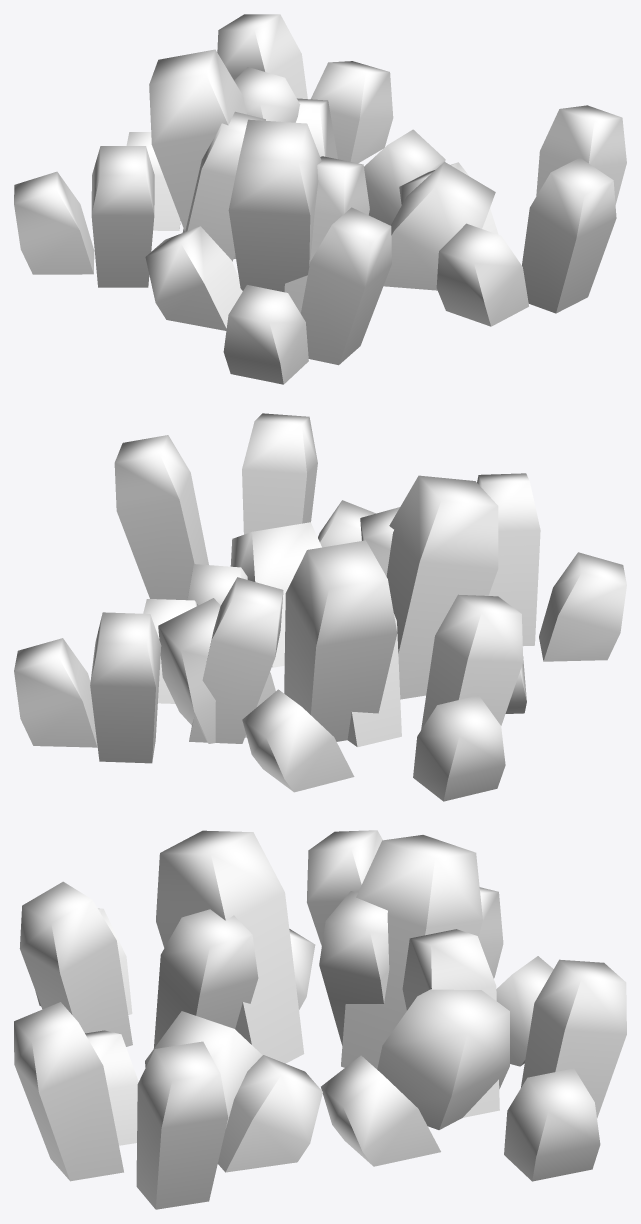
The model's file is grass-patch.glb.
The picture shows the model from 3 angles, top to bottom: view 1: azimuth 30°, elevation 25°; view 2: azimuth 150°, elevation 25°; view 3: azimuth 270°, elevation 25°; orthographic projection. The views are drawn at different scales.
Visible parts, largest first — view 1: grass-patch; view 2: grass-patch; view 3: grass-patch.
Boxes of the visible parts, x1=… form: grass-patch: x1=14, y1=14, x2=626, y2=384; grass-patch: x1=14, y1=413, x2=626, y2=801; grass-patch: x1=14, y1=830, x2=626, y2=1209.
Size of the model in its own units: 1.31 by 0.4709 by 1.27.
Materials: 1 (1 with a texture image).
